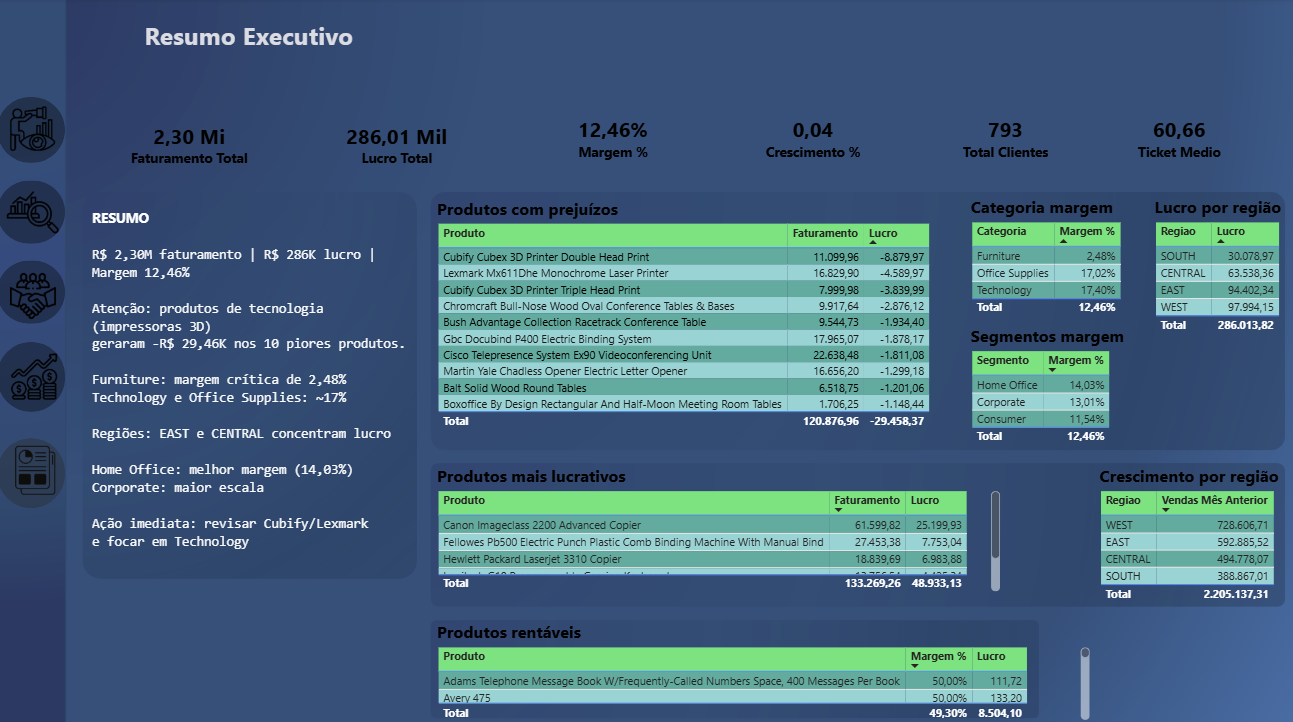

The page's visual inventory and layout, read from the dashboard file:
{"tool":"powerbi","page":{"name":"Resumo Executivo","canvas":[1280,720],"ordinal":4},"visuals":[{"type":"cardVisual","fields":{"Data":["Medidas.Faturamento Total"]},"box":[68.6,102.9,240,81.4],"z":0},{"type":"cardVisual","fields":{"Data":["Medidas.Lucro Total"]},"box":[272.9,102.9,240,81.4],"z":1000},{"type":"cardVisual","fields":{"Data":["Medidas.Margem %"]},"box":[484.3,97.1,240,81.4],"z":2000},{"type":"cardVisual","fields":{"Data":["Medidas.Crescimento %"]},"box":[681.4,97.1,240,81.4],"z":3000},{"type":"cardVisual","fields":{"Data":["Medidas.Total Clientes"]},"box":[870,97.1,240,81.4],"z":4000},{"type":"cardVisual","fields":{"Data":["Medidas.Ticket Medio"]},"box":[1040,97.1,240,81.4],"z":5000},{"type":"tableEx","title":"Produtos com prejuízos","fields":{"Values":["dim_produto.Nome_Produto","Medidas.Faturamento Total","Medidas.Lucro Total"]},"box":[426.8,194.9,510.5,256.6],"z":6000},{"type":"tableEx","title":"Categoria margem","fields":{"Values":["dim_produto.Categoria","Medidas.Margem %"]},"box":[951.4,194.3,180,125.7],"z":7000},{"type":"tableEx","title":"Lucro por região","fields":{"Values":["dim_local.Regiao","Medidas.Lucro Total"]},"box":[1131.4,194.3,148.6,155.7],"z":8000},{"type":"tableEx","title":"Produtos mais lucrativos","fields":{"Values":["dim_produto.Nome_Produto","Medidas.Faturamento Total","Medidas.Lucro Total"]},"box":[426.8,457.7,562.9,129.9],"z":9000},{"type":"tableEx","title":"Segmentos margem","fields":{"Values":["dim_cliente.Segmento","Medidas.Margem %"]},"box":[951.4,320,162.9,130],"z":10000},{"type":"tableEx","title":"Crescimento por região","fields":{"Values":["dim_local.Regiao","Medidas.Vendas Mês Anterior"]},"box":[1077.1,457.1,188.6,152.9],"z":11000},{"type":"tableEx","title":"Produtos rentáveis","fields":{"Values":["dim_produto.Nome_Produto","Medidas.Margem %","Medidas.Lucro Total"]},"box":[426.8,610.6,650.4,102.9],"z":12000},{"type":"textbox","box":[87.8,183.9,322.5,419.9],"z":13000},{"type":"textbox","box":[140,16.5,297.8,65.9],"z":14000},{"type":"pageNavigator","box":[0,97.4,67.2,65.9],"z":15000},{"type":"pageNavigator","box":[0,179,67,62],"z":16000},{"type":"pageNavigator","box":[0,257.1,67.1,62.9],"z":17000},{"type":"pageNavigator","box":[0,337,67,69],"z":18000},{"type":"pageNavigator","box":[0,431.4,67.9,69.3],"z":19000}]}

Visuals, with their boxes in screenshot pixels (x1, y1, x2, y2), scaled from the page's 1280x720 canvas onto the 1293x722 screenshot:
cardVisual - Medidas.Faturamento Total: bbox=[69, 103, 312, 185]
cardVisual - Medidas.Lucro Total: bbox=[276, 103, 518, 185]
cardVisual - Medidas.Margem %: bbox=[489, 97, 732, 179]
cardVisual - Medidas.Crescimento %: bbox=[688, 97, 931, 179]
cardVisual - Medidas.Total Clientes: bbox=[879, 97, 1121, 179]
cardVisual - Medidas.Ticket Medio: bbox=[1051, 97, 1292, 179]
"Produtos com prejuízos" tableEx: bbox=[431, 195, 947, 453]
"Categoria margem" tableEx: bbox=[961, 195, 1143, 321]
"Lucro por região" tableEx: bbox=[1143, 195, 1292, 351]
"Produtos mais lucrativos" tableEx: bbox=[431, 459, 1000, 589]
"Segmentos margem" tableEx: bbox=[961, 321, 1126, 451]
"Crescimento por região" tableEx: bbox=[1088, 458, 1279, 612]
"Produtos rentáveis" tableEx: bbox=[431, 612, 1088, 715]
textbox: bbox=[89, 184, 414, 605]
textbox: bbox=[141, 17, 442, 83]
pageNavigator: bbox=[0, 98, 68, 164]
pageNavigator: bbox=[0, 179, 68, 242]
pageNavigator: bbox=[0, 258, 68, 321]
pageNavigator: bbox=[0, 338, 68, 407]
pageNavigator: bbox=[0, 433, 69, 502]
